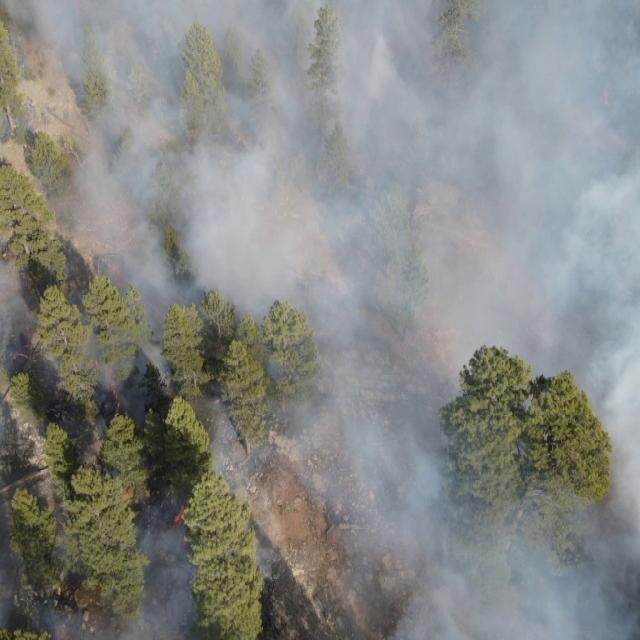fire: (594, 64, 616, 108), (110, 378, 122, 414), (14, 342, 34, 362), (175, 498, 187, 522), (90, 356, 104, 374)
smoke: (0, 0, 640, 640)
